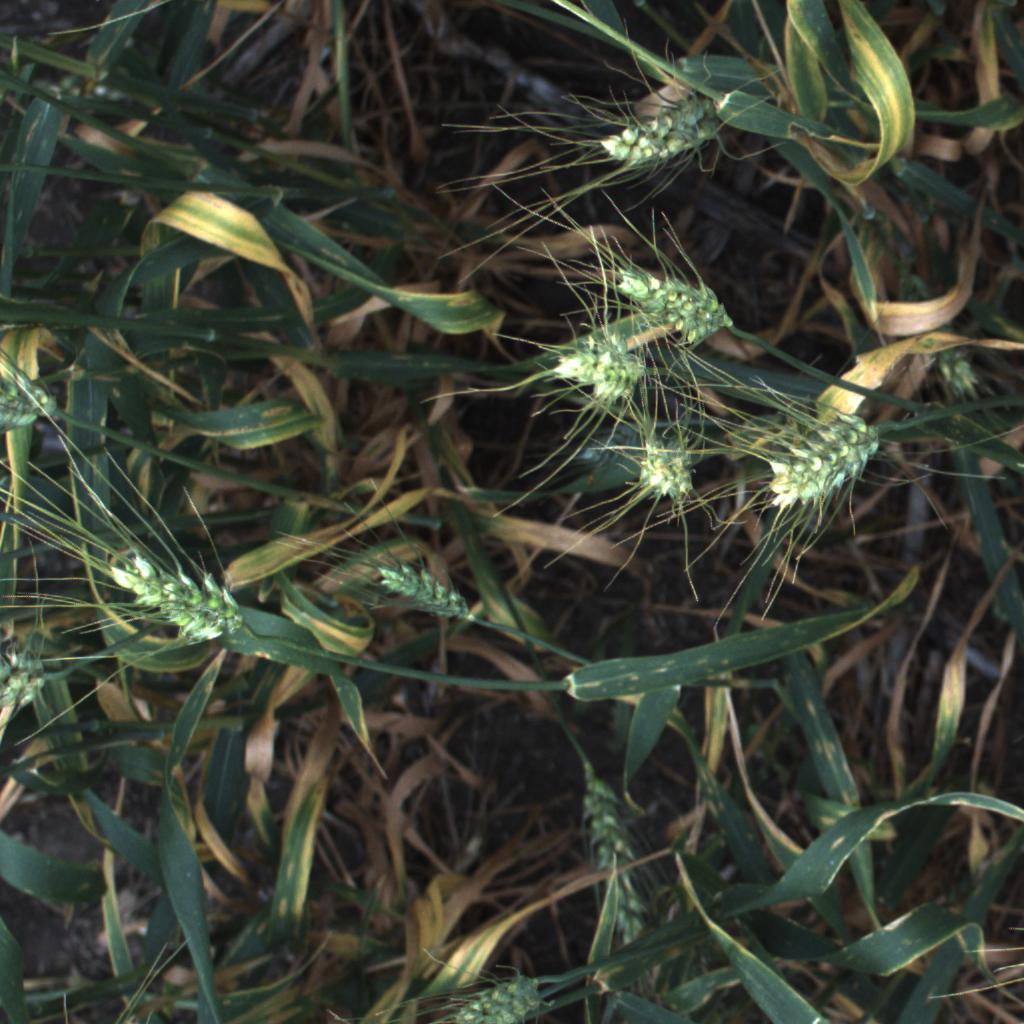0-0: (744, 400, 888, 540), (600, 253, 742, 357), (533, 305, 664, 416), (96, 553, 243, 648), (585, 99, 723, 179), (368, 553, 488, 625), (424, 968, 557, 1024), (620, 430, 702, 513)
